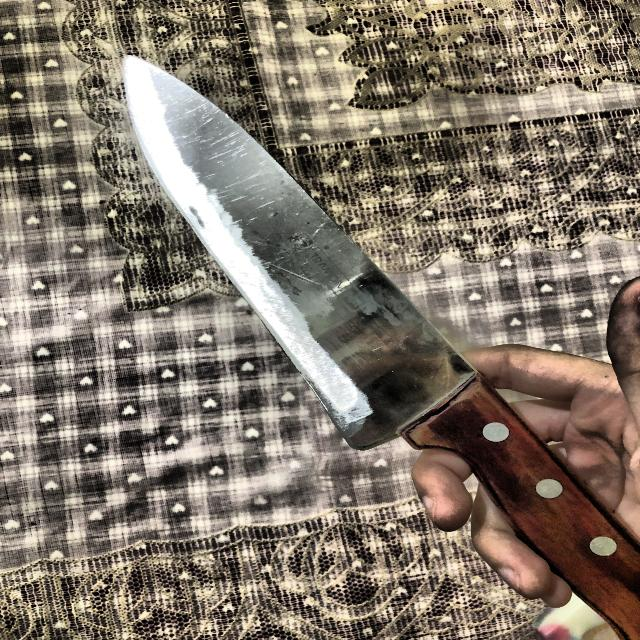knife: (123, 57, 638, 640)
